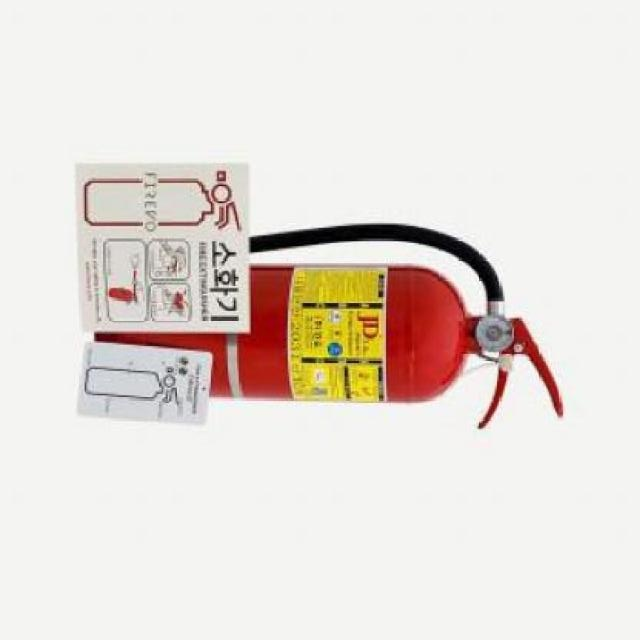fire extinguisher: (94, 223, 563, 431)
